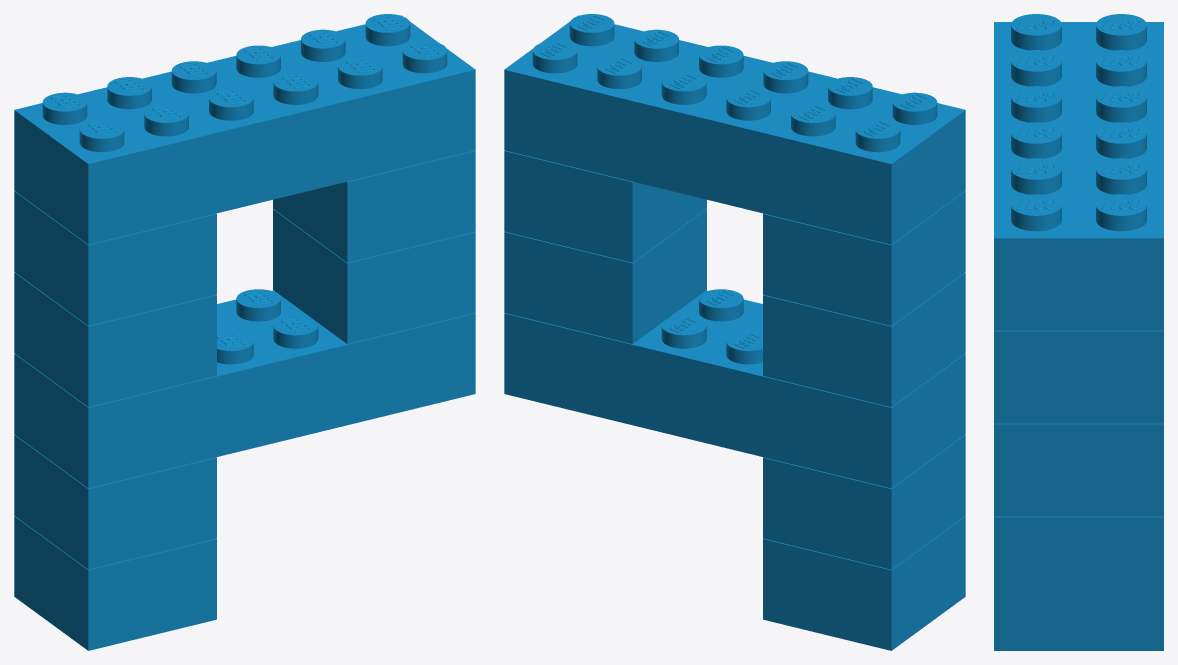
3 views of the same model, side by side, from view 1: azimuth 30°, elevation 25°; view 2: azimuth 150°, elevation 25°; view 3: azimuth 270°, elevation 25° (orthographic). The views are drawn at different scales.
Visible parts, largest first — view 1: Inner-Node-P_dot_io-4, Inner-Node-P_dot_io-5, Inner-Node-P_dot_io-1, Inner-Node-P_dot_io-0, Inner-Node-P_dot_io-3, Inner-Node-P_dot_io-2, Inner-Node-P_dot_io-6, Inner-Node-P_dot_io-7; view 2: Inner-Node-P_dot_io-4, Inner-Node-P_dot_io-5, Inner-Node-P_dot_io-1, Inner-Node-P_dot_io-0, Inner-Node-P_dot_io-3, Inner-Node-P_dot_io-2, Inner-Node-P_dot_io-6, Inner-Node-P_dot_io-7; view 3: Inner-Node-P_dot_io-4, Inner-Node-P_dot_io-5, Inner-Node-P_dot_io-6, Inner-Node-P_dot_io-7, Inner-Node-P_dot_io-1.
Part boxes in pixels (x1,y1,x2,y2): Inner-Node-P_dot_io-4: [14, 14, 475, 244]; Inner-Node-P_dot_io-5: [14, 289, 475, 488]; Inner-Node-P_dot_io-1: [14, 516, 216, 650]; Inner-Node-P_dot_io-0: [14, 434, 216, 569]; Inner-Node-P_dot_io-3: [14, 191, 216, 325]; Inner-Node-P_dot_io-2: [14, 272, 216, 406]; Inner-Node-P_dot_io-6: [273, 209, 475, 343]; Inner-Node-P_dot_io-7: [273, 150, 475, 262]; Inner-Node-P_dot_io-4: [504, 14, 965, 244]; Inner-Node-P_dot_io-5: [504, 289, 965, 488]; Inner-Node-P_dot_io-1: [763, 516, 965, 650]; Inner-Node-P_dot_io-0: [763, 434, 965, 569]; Inner-Node-P_dot_io-3: [763, 191, 965, 325]; Inner-Node-P_dot_io-2: [763, 272, 965, 406]; Inner-Node-P_dot_io-6: [504, 209, 706, 343]; Inner-Node-P_dot_io-7: [504, 150, 706, 262]; Inner-Node-P_dot_io-4: [994, 14, 1163, 330]; Inner-Node-P_dot_io-5: [994, 516, 1163, 609]; Inner-Node-P_dot_io-6: [994, 423, 1163, 516]; Inner-Node-P_dot_io-7: [994, 330, 1163, 423]; Inner-Node-P_dot_io-1: [994, 609, 1163, 650].
Size of the model in its own units: 120 by 148 by 39.75.
